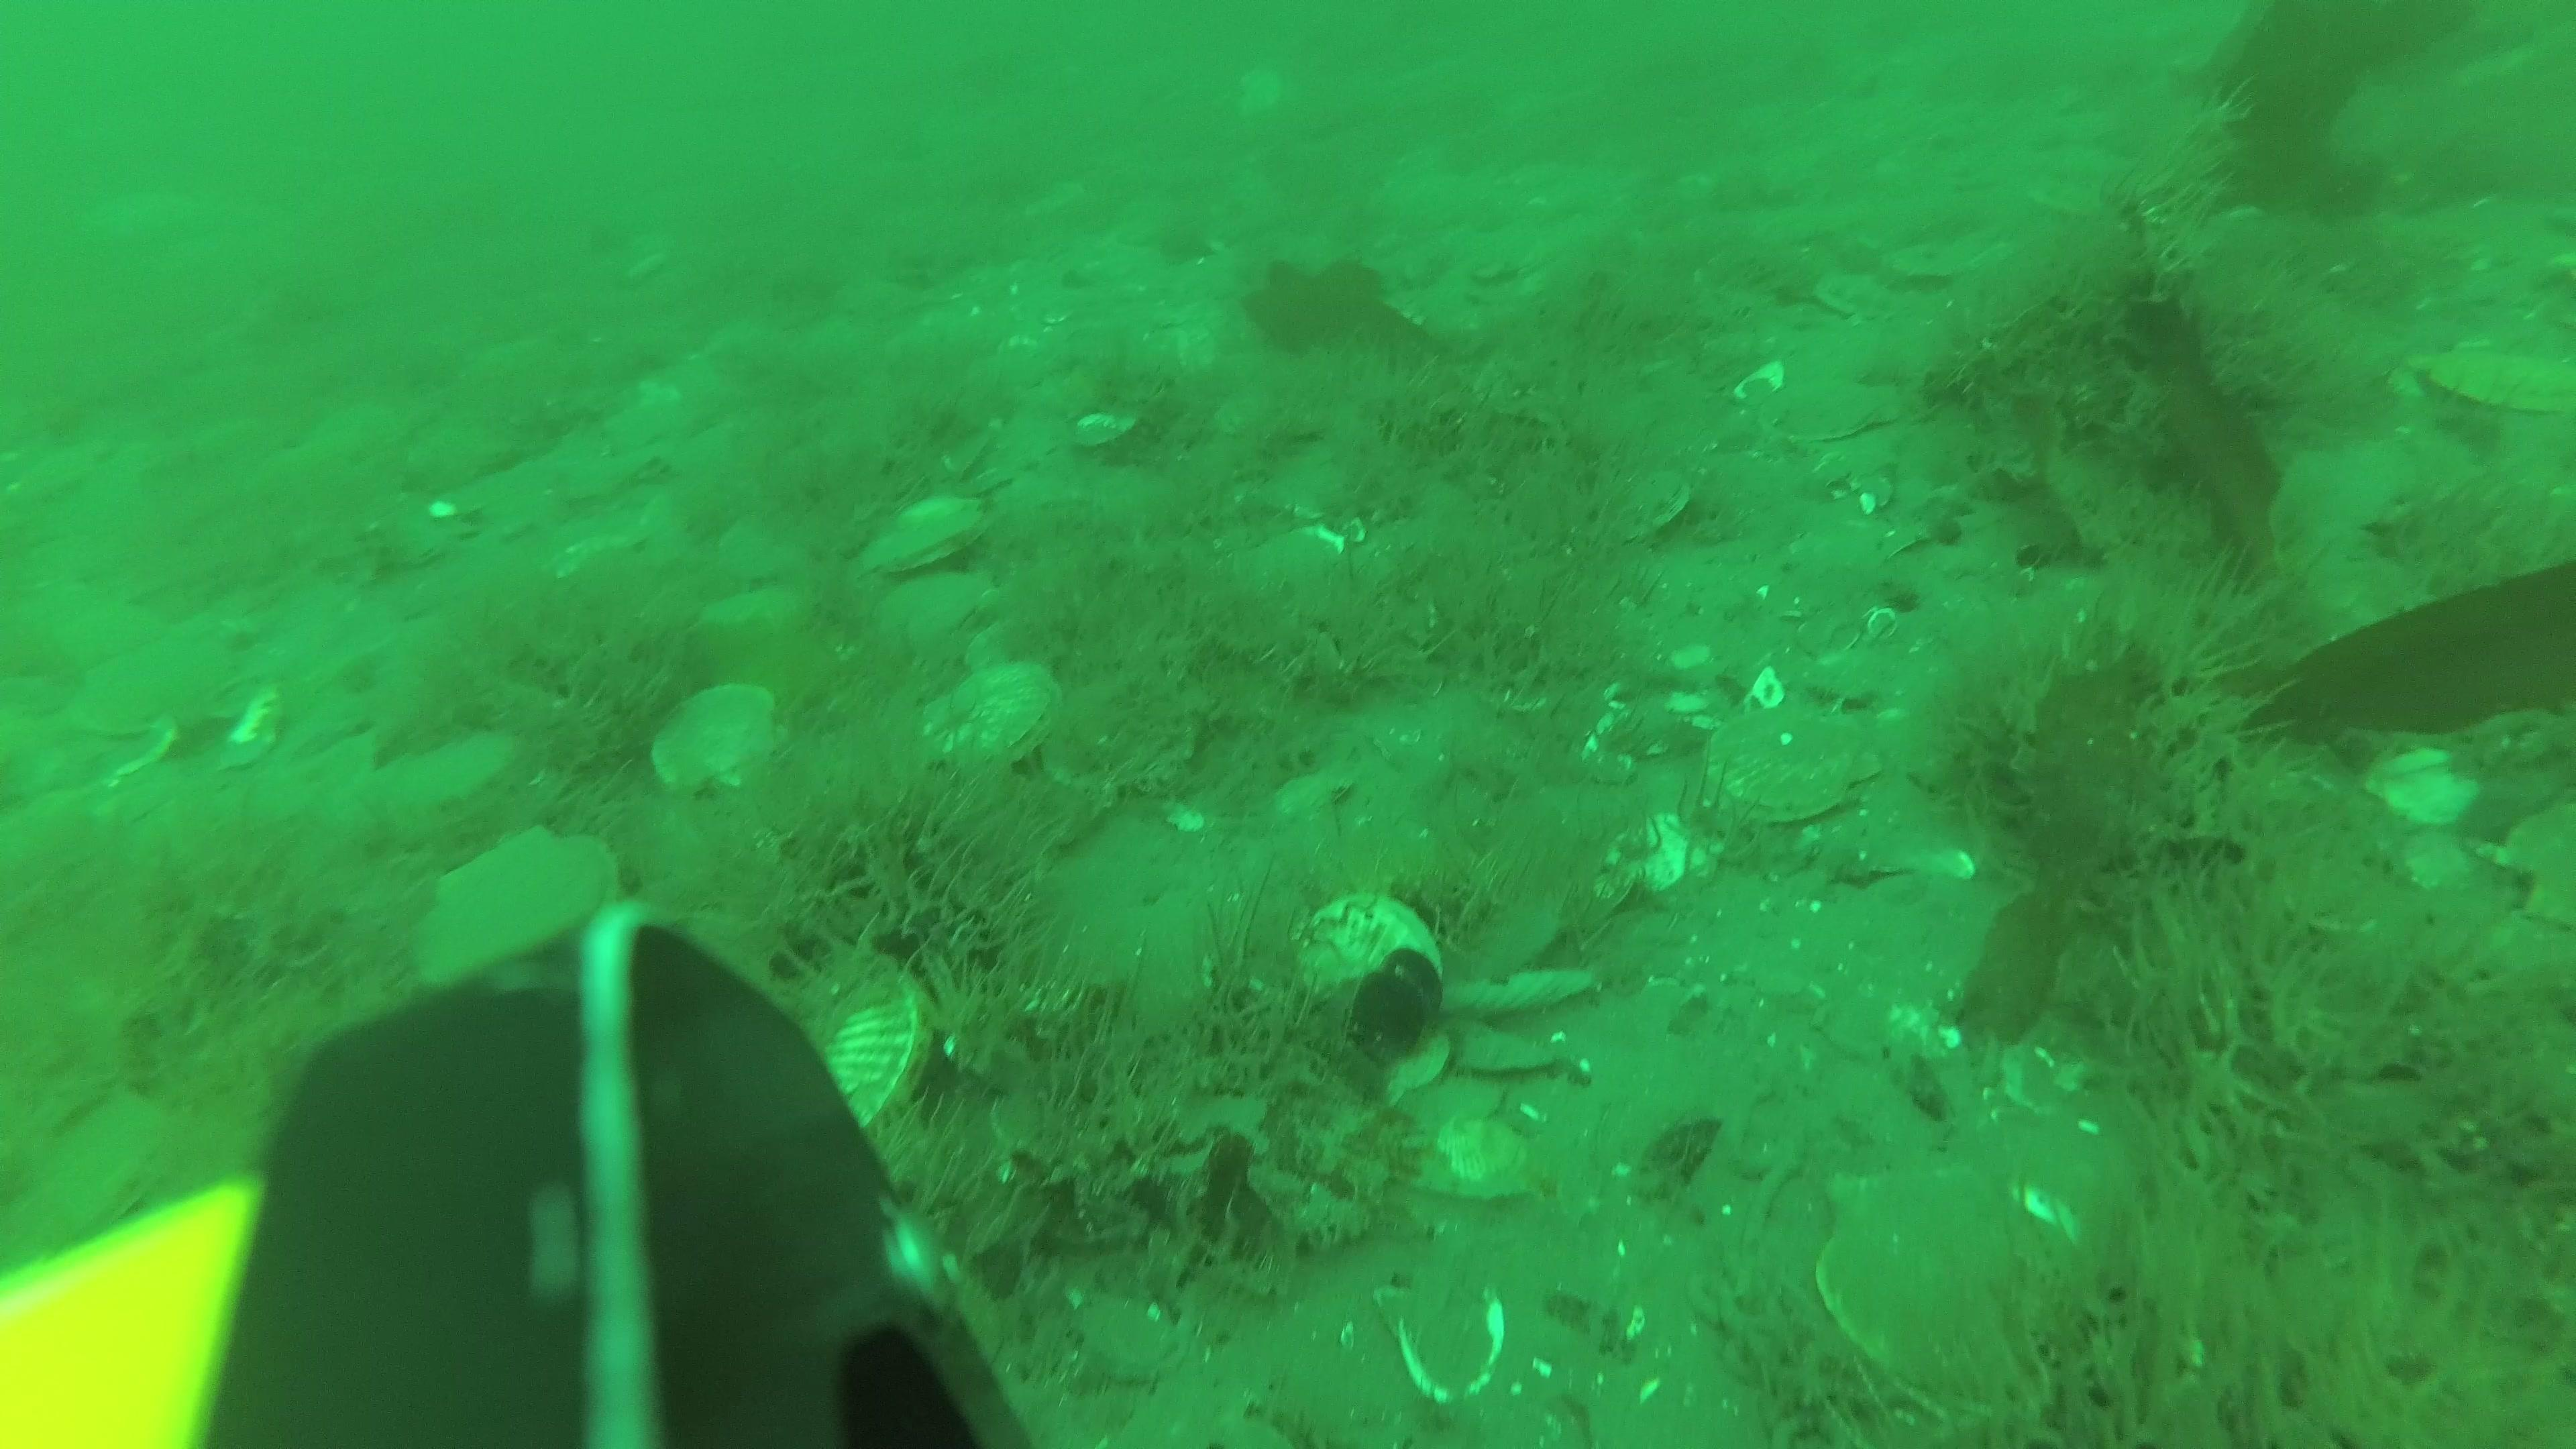scallop: (1824, 1157, 2081, 1380), (2288, 425, 2489, 644), (410, 823, 610, 978), (1713, 697, 1890, 837), (805, 952, 939, 1122), (1302, 895, 1435, 1039), (83, 628, 242, 741), (370, 732, 520, 835), (1407, 1097, 1541, 1207), (656, 679, 780, 794), (932, 672, 1054, 770), (1762, 370, 1898, 449), (872, 492, 977, 580), (893, 552, 993, 637)
